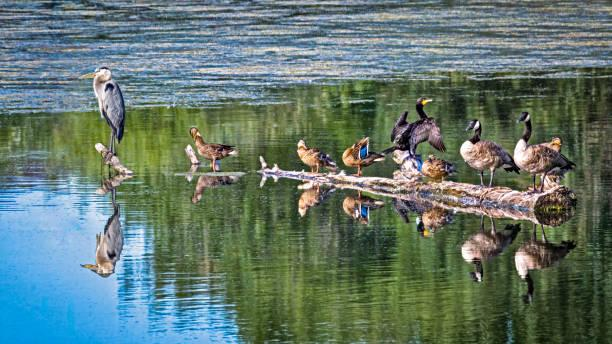Canadian-Goose: (511, 108, 573, 182), (458, 120, 513, 181)
